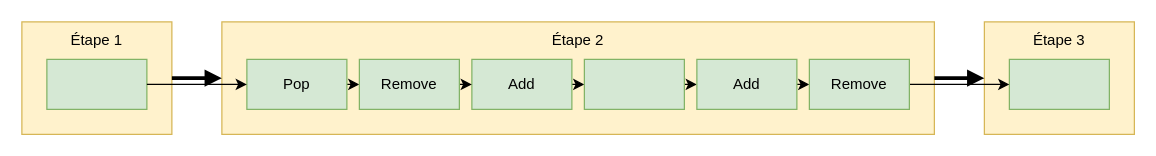
Some shapes in this 1156 by 156 pixel diagram are drawn without their labels. Here are the shapes that lost their labels. From the top down, the centre of each, then its label:
At [96,83]: "Init".
At [633,83]: "Get".
At [1058,83]: "Destroy".
